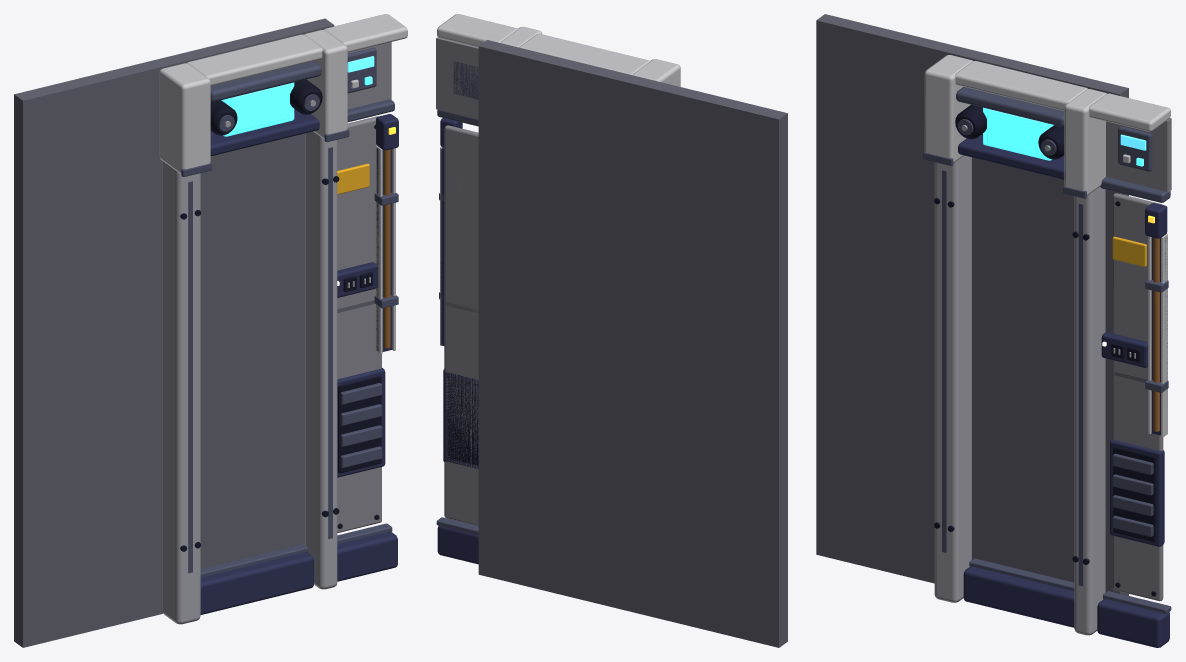
Rendered from int.wallbay.far.14.w1.glb.
The picture shows the model from 3 angles, left to right: view 1: azimuth 30°, elevation 25°; view 2: azimuth 150°, elevation 25°; view 3: azimuth 330°, elevation 25°; orthographic projection. The views are drawn at different scales.
Visible parts, largest first — view 1: int.wallbay.far.14.w1; view 2: int.wallbay.far.14.w1; view 3: int.wallbay.far.14.w1.
Boxes of the visible parts, x1,y1,x2,y2 form: int.wallbay.far.14.w1: (14,14,407,647); int.wallbay.far.14.w1: (436,14,787,647); int.wallbay.far.14.w1: (816,14,1171,647).
Size of the model in its own units: 1.17 by 1.68 by 0.2.
